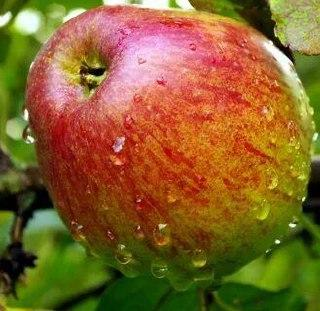Apple: (27, 5, 316, 290)
